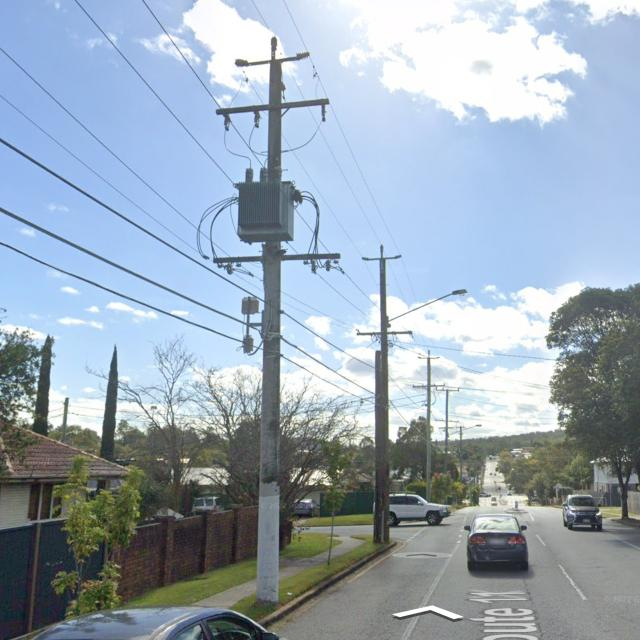HV-transmission: (215, 37, 328, 129), (360, 244, 403, 266), (411, 349, 445, 363), (434, 387, 460, 394)
LV link: (225, 262, 255, 278), (324, 259, 346, 274)
concrete-pole: (252, 60, 282, 603)
crossarm: (234, 36, 310, 69), (216, 96, 330, 115), (211, 252, 341, 264), (362, 246, 402, 262), (358, 330, 412, 336), (417, 350, 440, 360), (435, 418, 459, 424), (412, 384, 444, 388), (435, 388, 460, 392)
streetlight: (384, 287, 468, 327), (447, 424, 483, 436)
timber-pole: (373, 257, 391, 546), (426, 358, 431, 503), (444, 389, 449, 454)
transformer: (236, 165, 295, 244)
